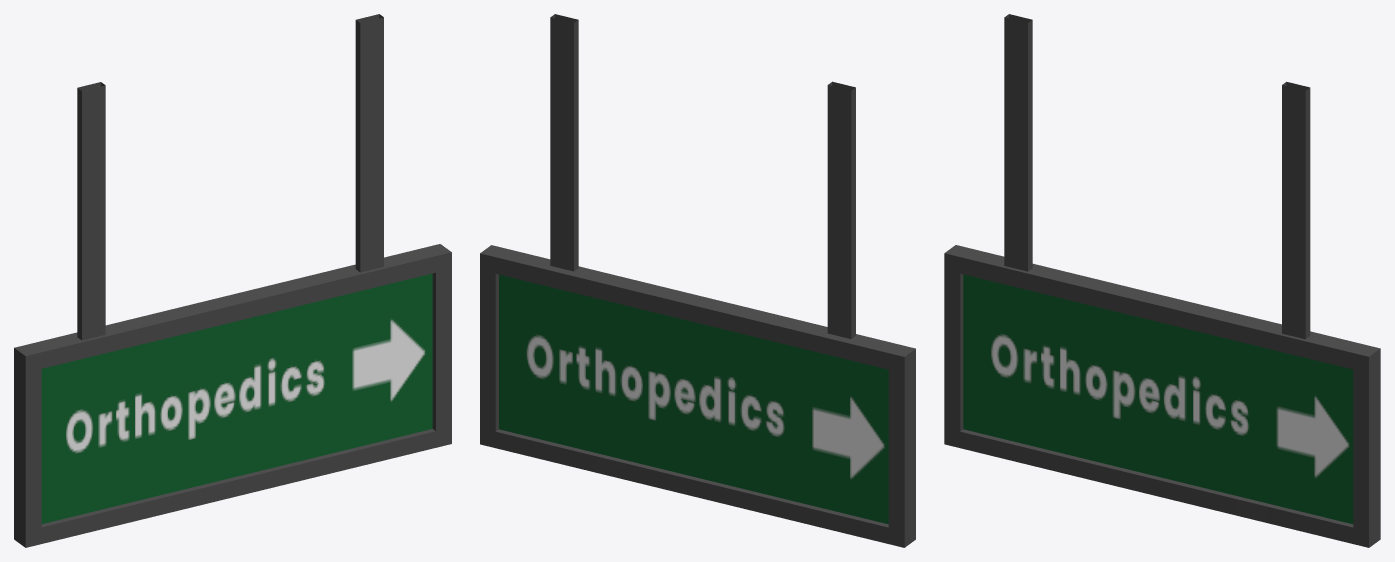
Rendered from OrthopedicsBoard.fbx.
3 views of the same model, side by side, from view 1: azimuth 30°, elevation 25°; view 2: azimuth 150°, elevation 25°; view 3: azimuth 330°, elevation 25° (orthographic).
Parts seen in each view (by area): view 1: OrthopedicsBoard; view 2: OrthopedicsBoard; view 3: OrthopedicsBoard.
Part boxes in pixels (<box>): OrthopedicsBoard: <box>14,14,451,547</box>; OrthopedicsBoard: <box>480,14,915,547</box>; OrthopedicsBoard: <box>944,14,1380,547</box>.
Bounding box in the file's own units: 40.54 × 40.11 × 1.9.
